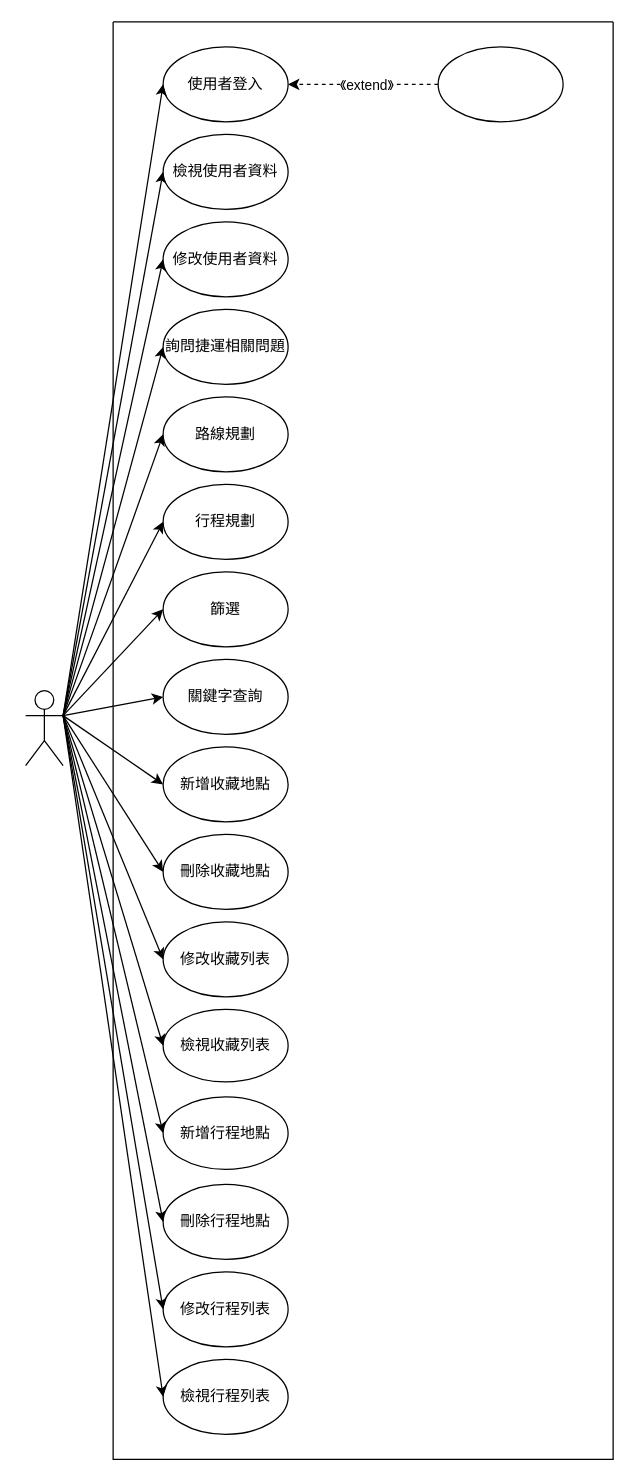
Image size: 635x1481. Some labels were removed from this diagram. The centre of each missing label's shape, as x and y in pixels:
"Google登入驗證" goes at pixel 500 84.
"使用者" goes at pixel 43 727.
